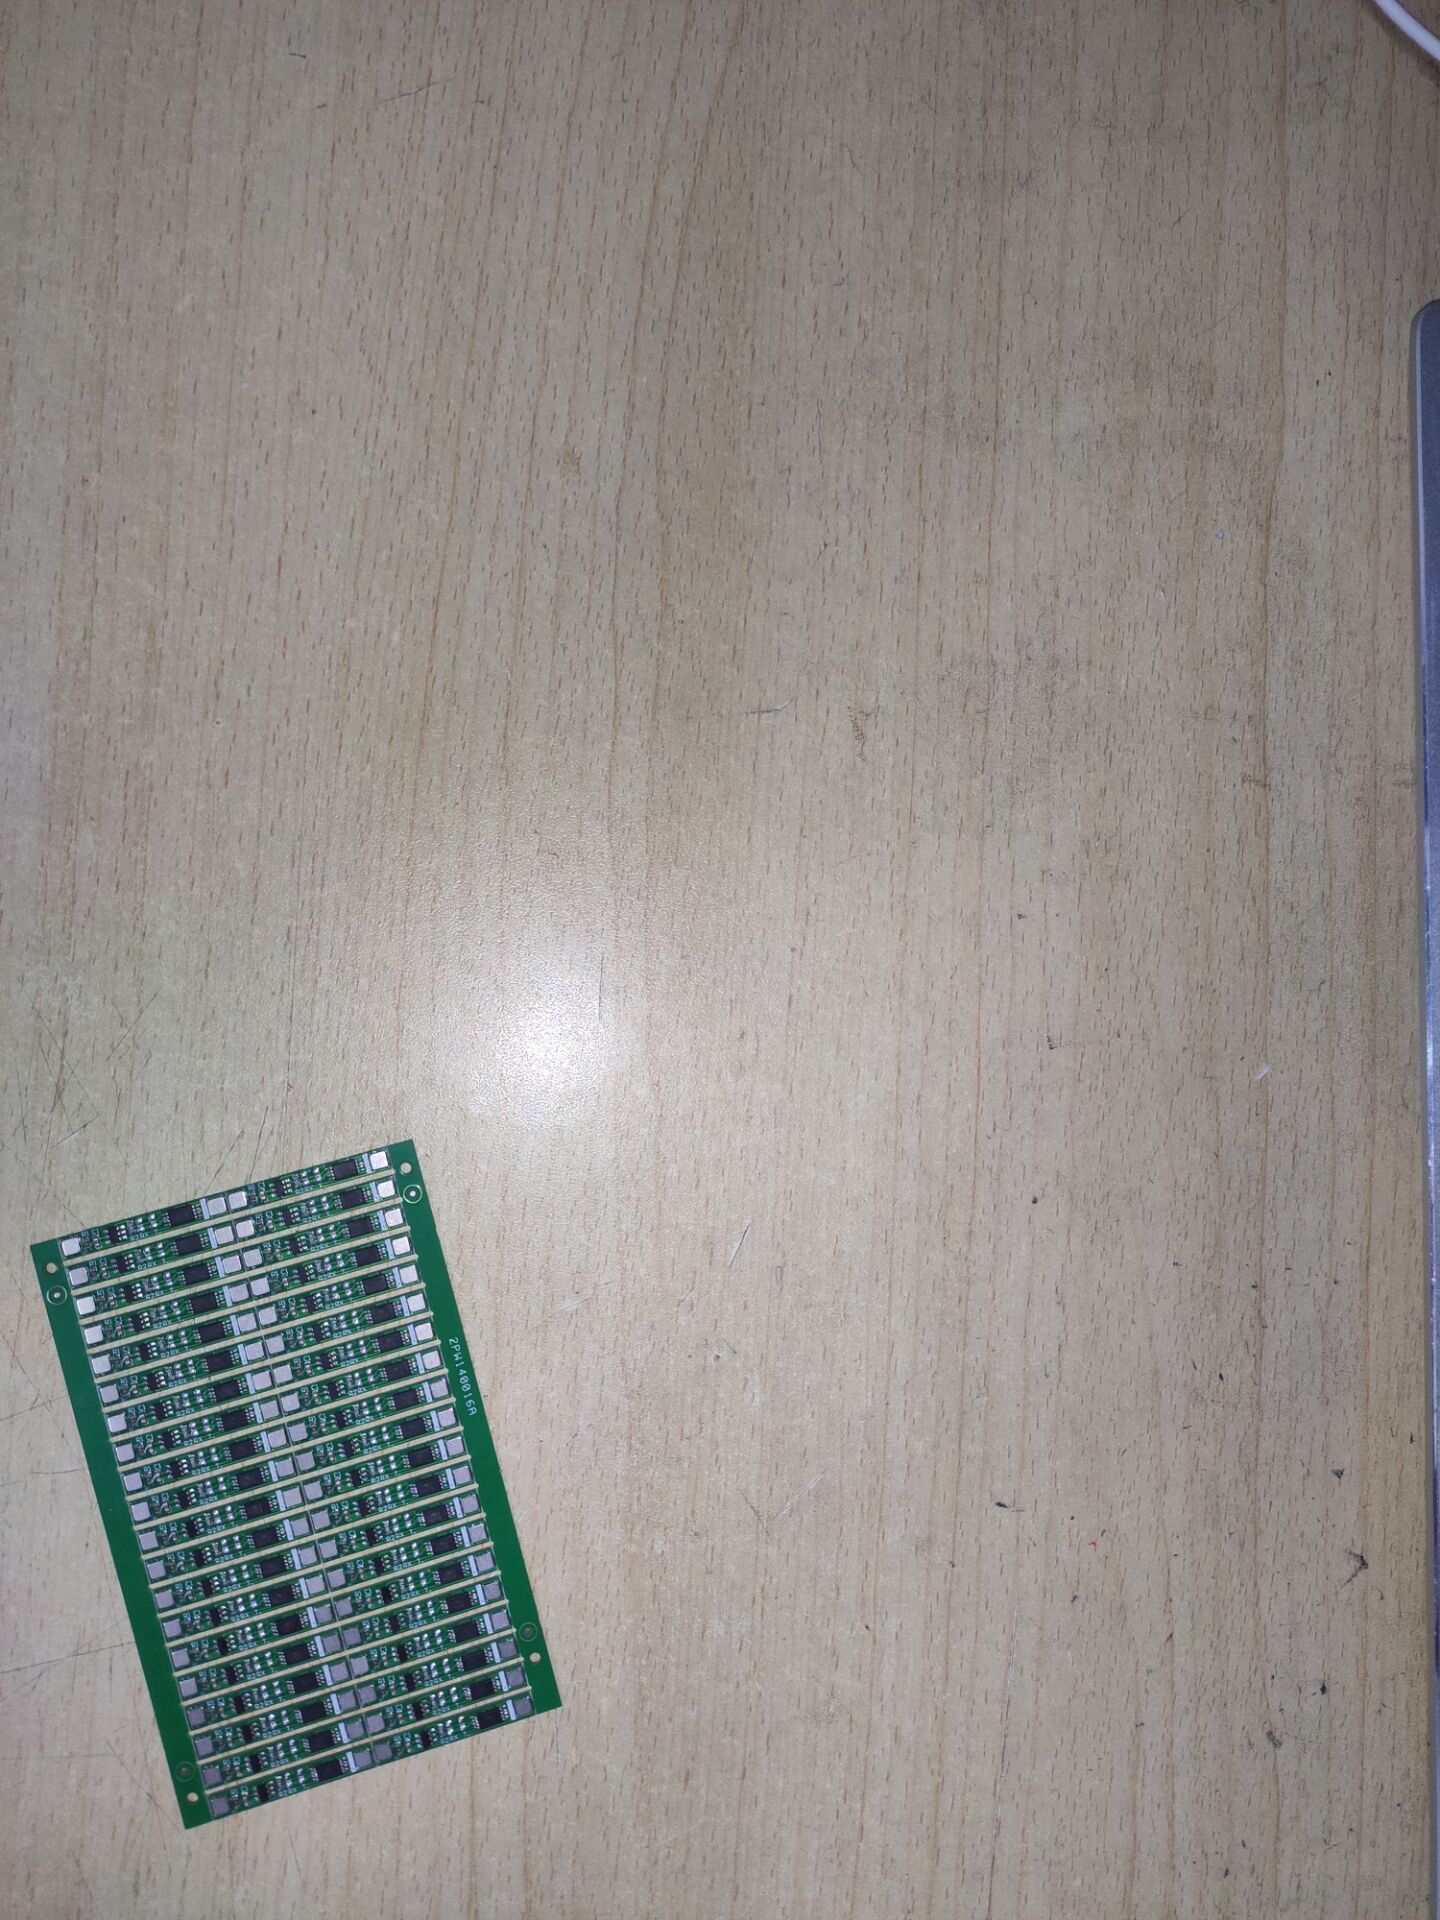point: (91, 1354, 112, 1376), (266, 1429, 287, 1450), (265, 1334, 285, 1356), (76, 1296, 97, 1315), (123, 1472, 144, 1492), (130, 1503, 151, 1523), (221, 1254, 241, 1274), (326, 1568, 347, 1589), (204, 1766, 222, 1788), (67, 1267, 91, 1283), (107, 1413, 127, 1433), (214, 1226, 233, 1245), (305, 1574, 325, 1594), (352, 1748, 372, 1767), (287, 1423, 307, 1442), (295, 1451, 314, 1471), (374, 1743, 393, 1763), (460, 1494, 480, 1514), (475, 1552, 494, 1573), (150, 1560, 168, 1581), (156, 1588, 174, 1608), (194, 1736, 212, 1757), (210, 1795, 229, 1816), (257, 1306, 278, 1325), (281, 1391, 300, 1412), (359, 1684, 376, 1705), (431, 1377, 449, 1399), (437, 1408, 455, 1428), (498, 1638, 516, 1659), (99, 1386, 118, 1404), (115, 1444, 134, 1462), (141, 1532, 159, 1551), (179, 1676, 197, 1697), (188, 1708, 205, 1728), (207, 1198, 227, 1215), (245, 1343, 265, 1361), (274, 1458, 294, 1476), (302, 1481, 320, 1501), (365, 1714, 383, 1734), (375, 1181, 395, 1199), (416, 1323, 434, 1343), (422, 1352, 441, 1369), (483, 1582, 502, 1600), (328, 1663, 350, 1679), (337, 1692, 358, 1709), (272, 1365, 293, 1382), (469, 1523, 486, 1544), (236, 1315, 259, 1330), (172, 1649, 190, 1668), (315, 1604, 333, 1622), (347, 1720, 364, 1738), (335, 1598, 352, 1616), (384, 1209, 403, 1227), (400, 1266, 417, 1284), (446, 1438, 465, 1456), (452, 1466, 471, 1484), (491, 1611, 510, 1630), (515, 1697, 533, 1715), (229, 1285, 248, 1302), (260, 1402, 280, 1418), (282, 1489, 301, 1506), (291, 1519, 310, 1536), (235, 1220, 254, 1237), (242, 1251, 262, 1267), (342, 1629, 362, 1647), (407, 1295, 427, 1312), (164, 1619, 181, 1636), (254, 1371, 271, 1390), (229, 1192, 247, 1208), (252, 1278, 269, 1295), (313, 1511, 330, 1529), (320, 1541, 338, 1559), (369, 1152, 387, 1169), (507, 1668, 524, 1686), (84, 1327, 104, 1343), (352, 1657, 368, 1676), (61, 1238, 82, 1252), (323, 1635, 340, 1651), (392, 1236, 409, 1254), (300, 1549, 317, 1563)
